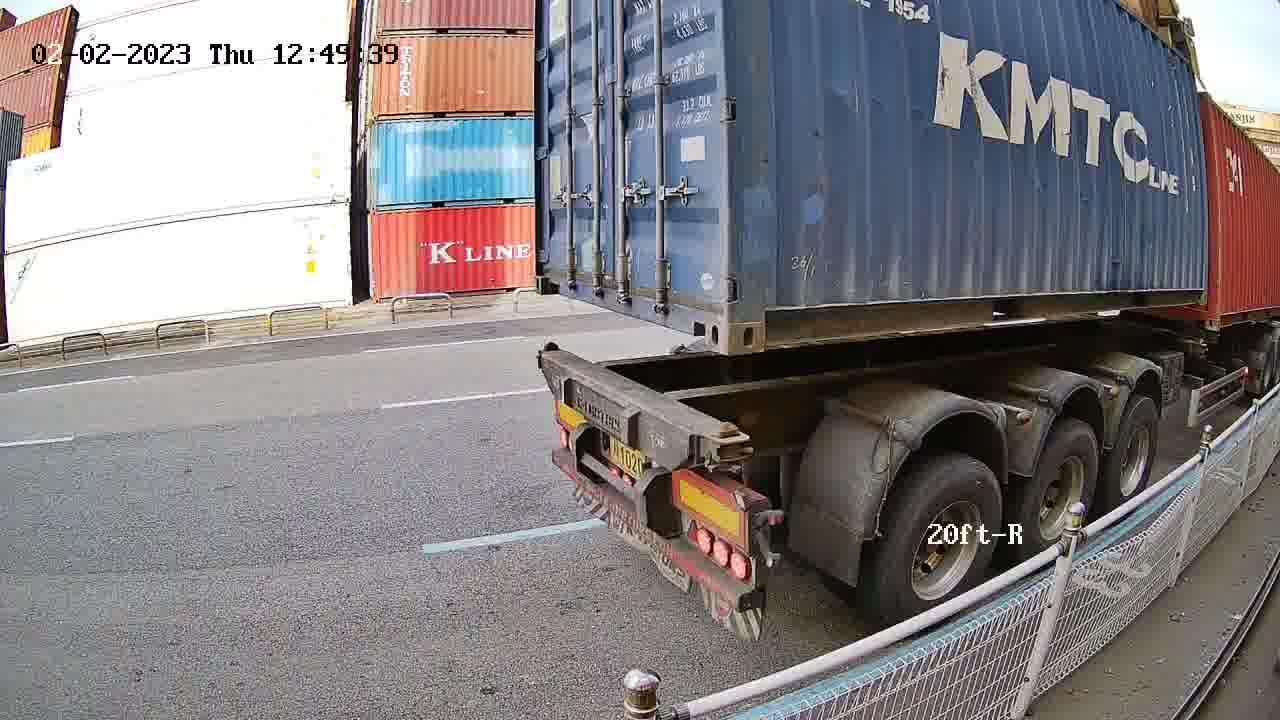Chassis: (539, 349, 748, 471)
Cone: (704, 419, 744, 473), (537, 338, 562, 355)
Hole_L: (728, 267, 806, 356), (534, 250, 571, 298)
Hole_R: (681, 271, 730, 356)
Tire: (884, 462, 1002, 635), (1025, 426, 1101, 562), (1105, 398, 1157, 518)
